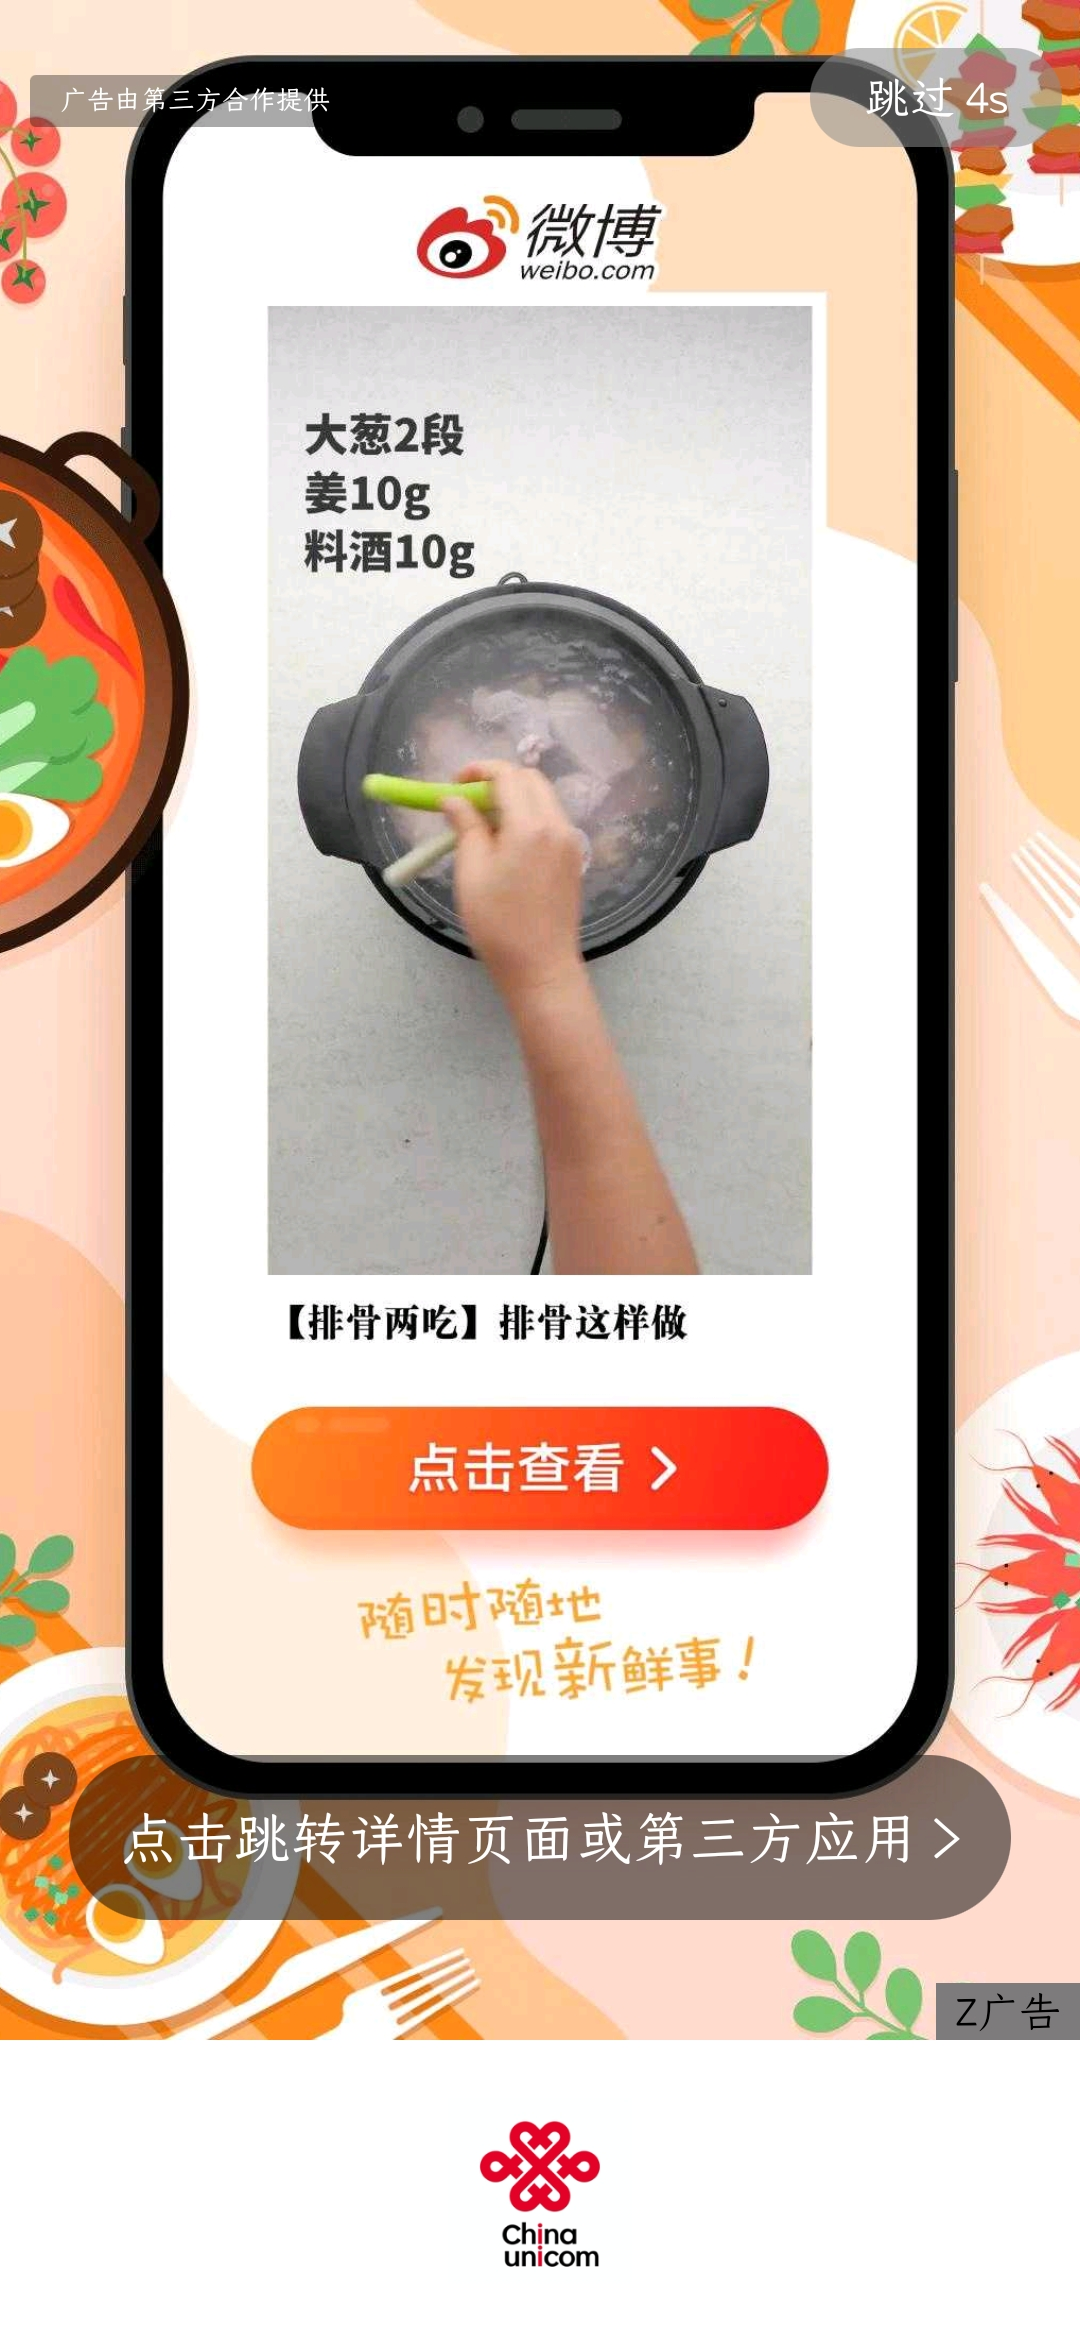skip: (843, 52, 1038, 151)
